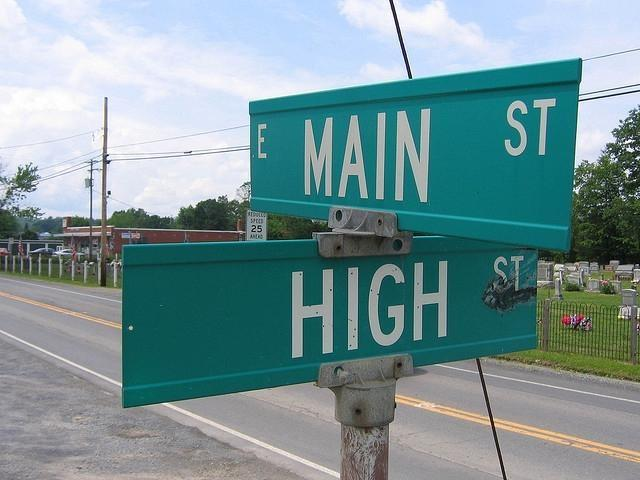car: (52, 248, 84, 258), (29, 248, 56, 256), (0, 248, 12, 256)
